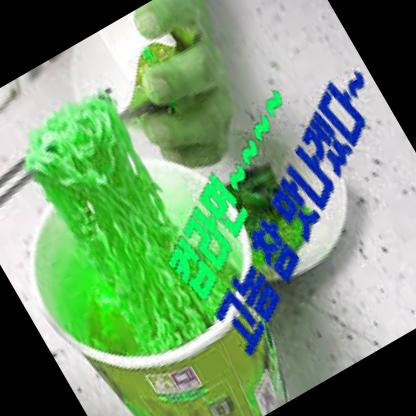Ramen: (0, 128, 332, 416)
